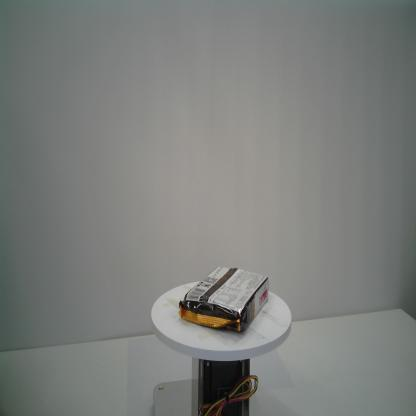Dessert: (177, 264, 271, 332)
